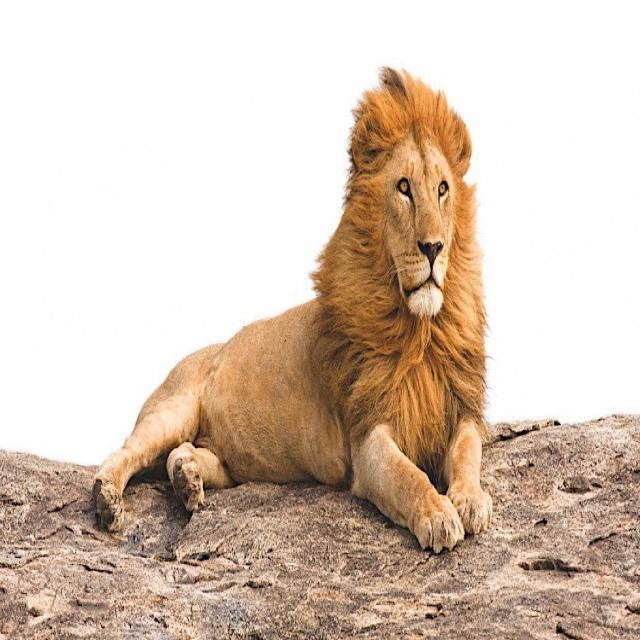Lion: (90, 64, 493, 554)
